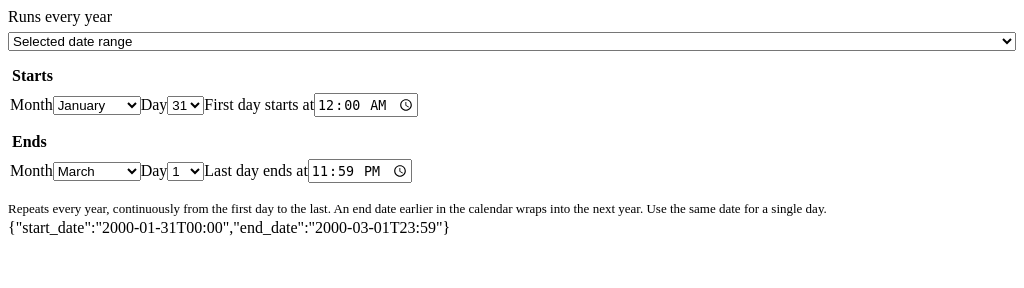
Scenario: month changes cannot save impossible dates and February offers leap day
Select "February" in the dropdown named "Starts month" at (97, 105), box left=53, top=96, right=141, bottom=114
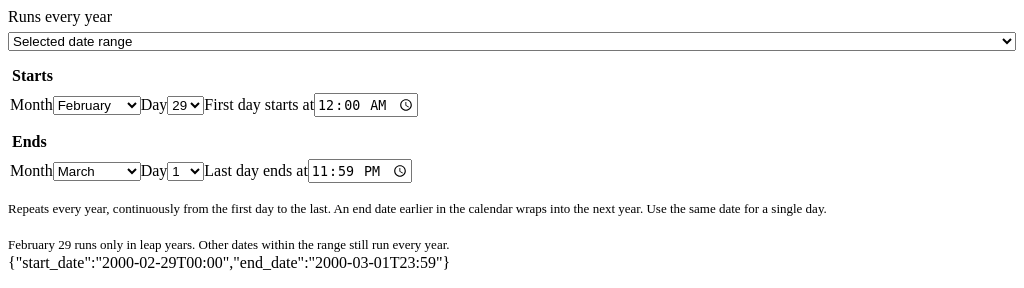
Expected: the text "only in leap years" is shown, left=8, top=236, right=450, bottom=252
